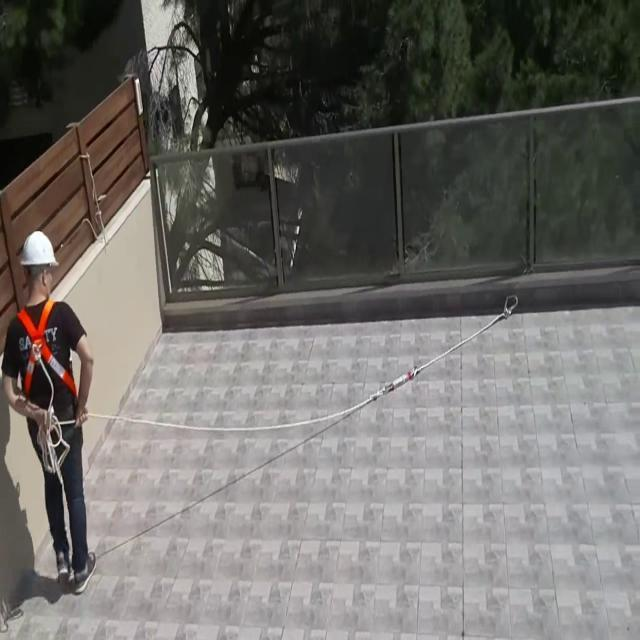Harness: (92, 296, 520, 434), (16, 299, 76, 398)
